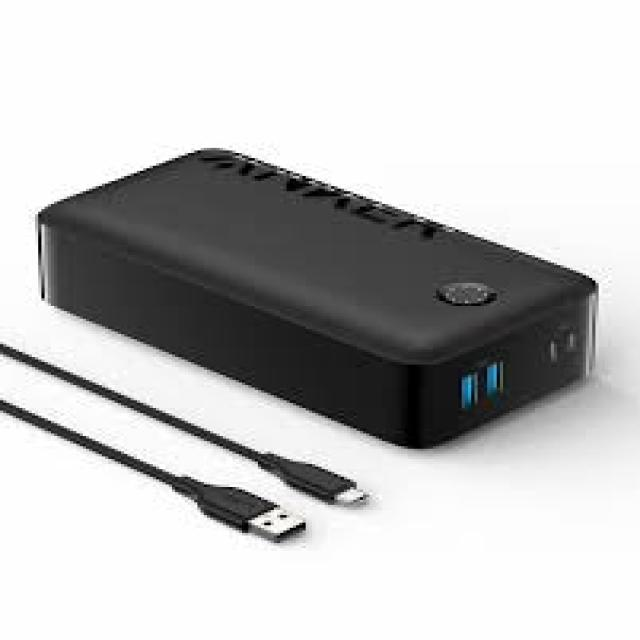portable-charger: (33, 144, 601, 448)
